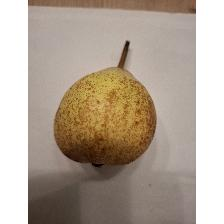Birne: (50, 36, 162, 170)
